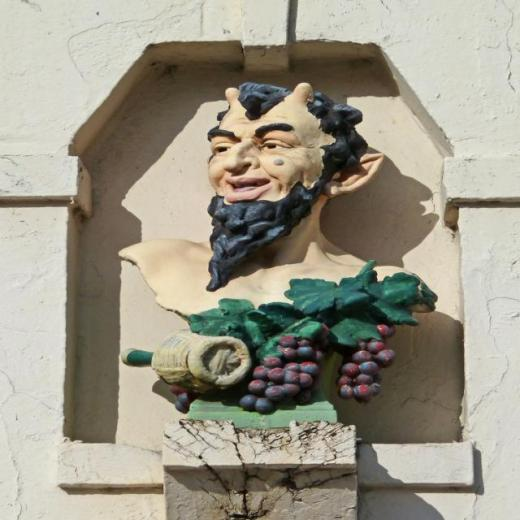Orange: (237, 325, 336, 414), (336, 324, 398, 405), (173, 402, 190, 413), (169, 384, 184, 396), (180, 393, 192, 406)
